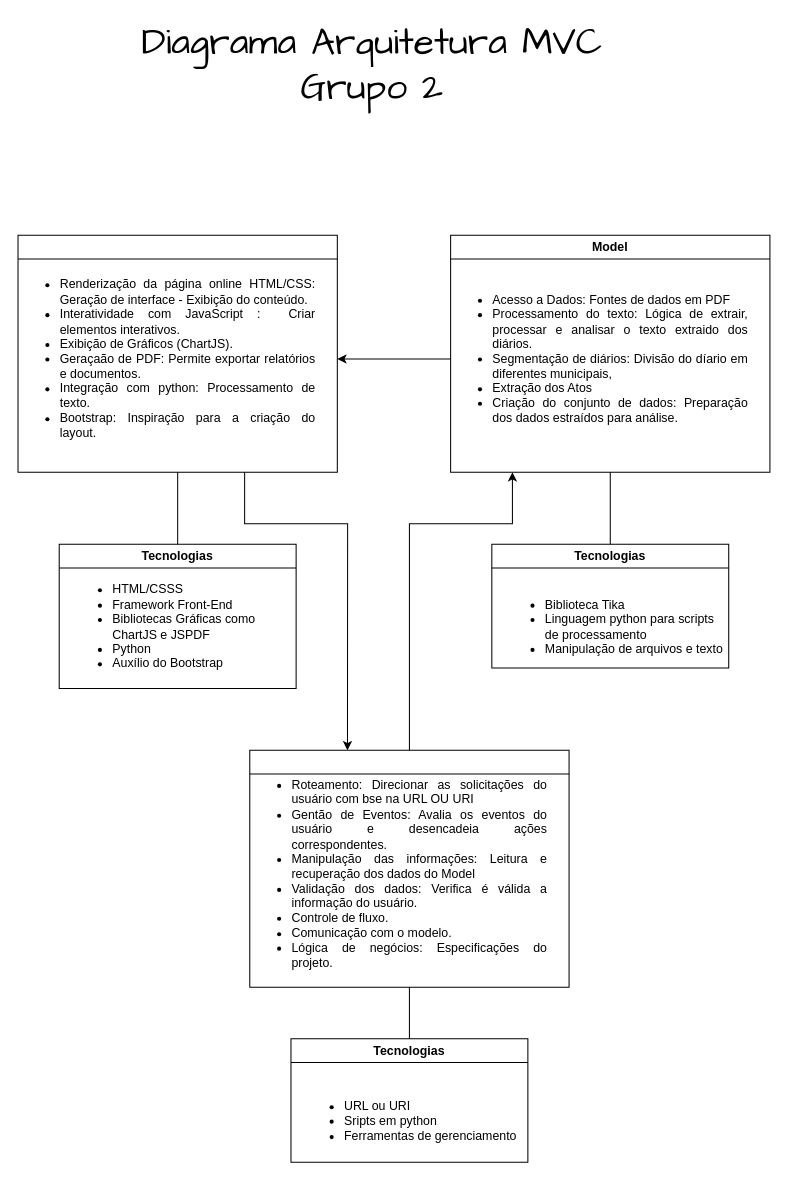
Image size: 788x1190. Some labels were removed from this diagram. Each missing label, with the box of its shape:
Controller: (249, 749, 569, 987)
View: (17, 234, 337, 472)
